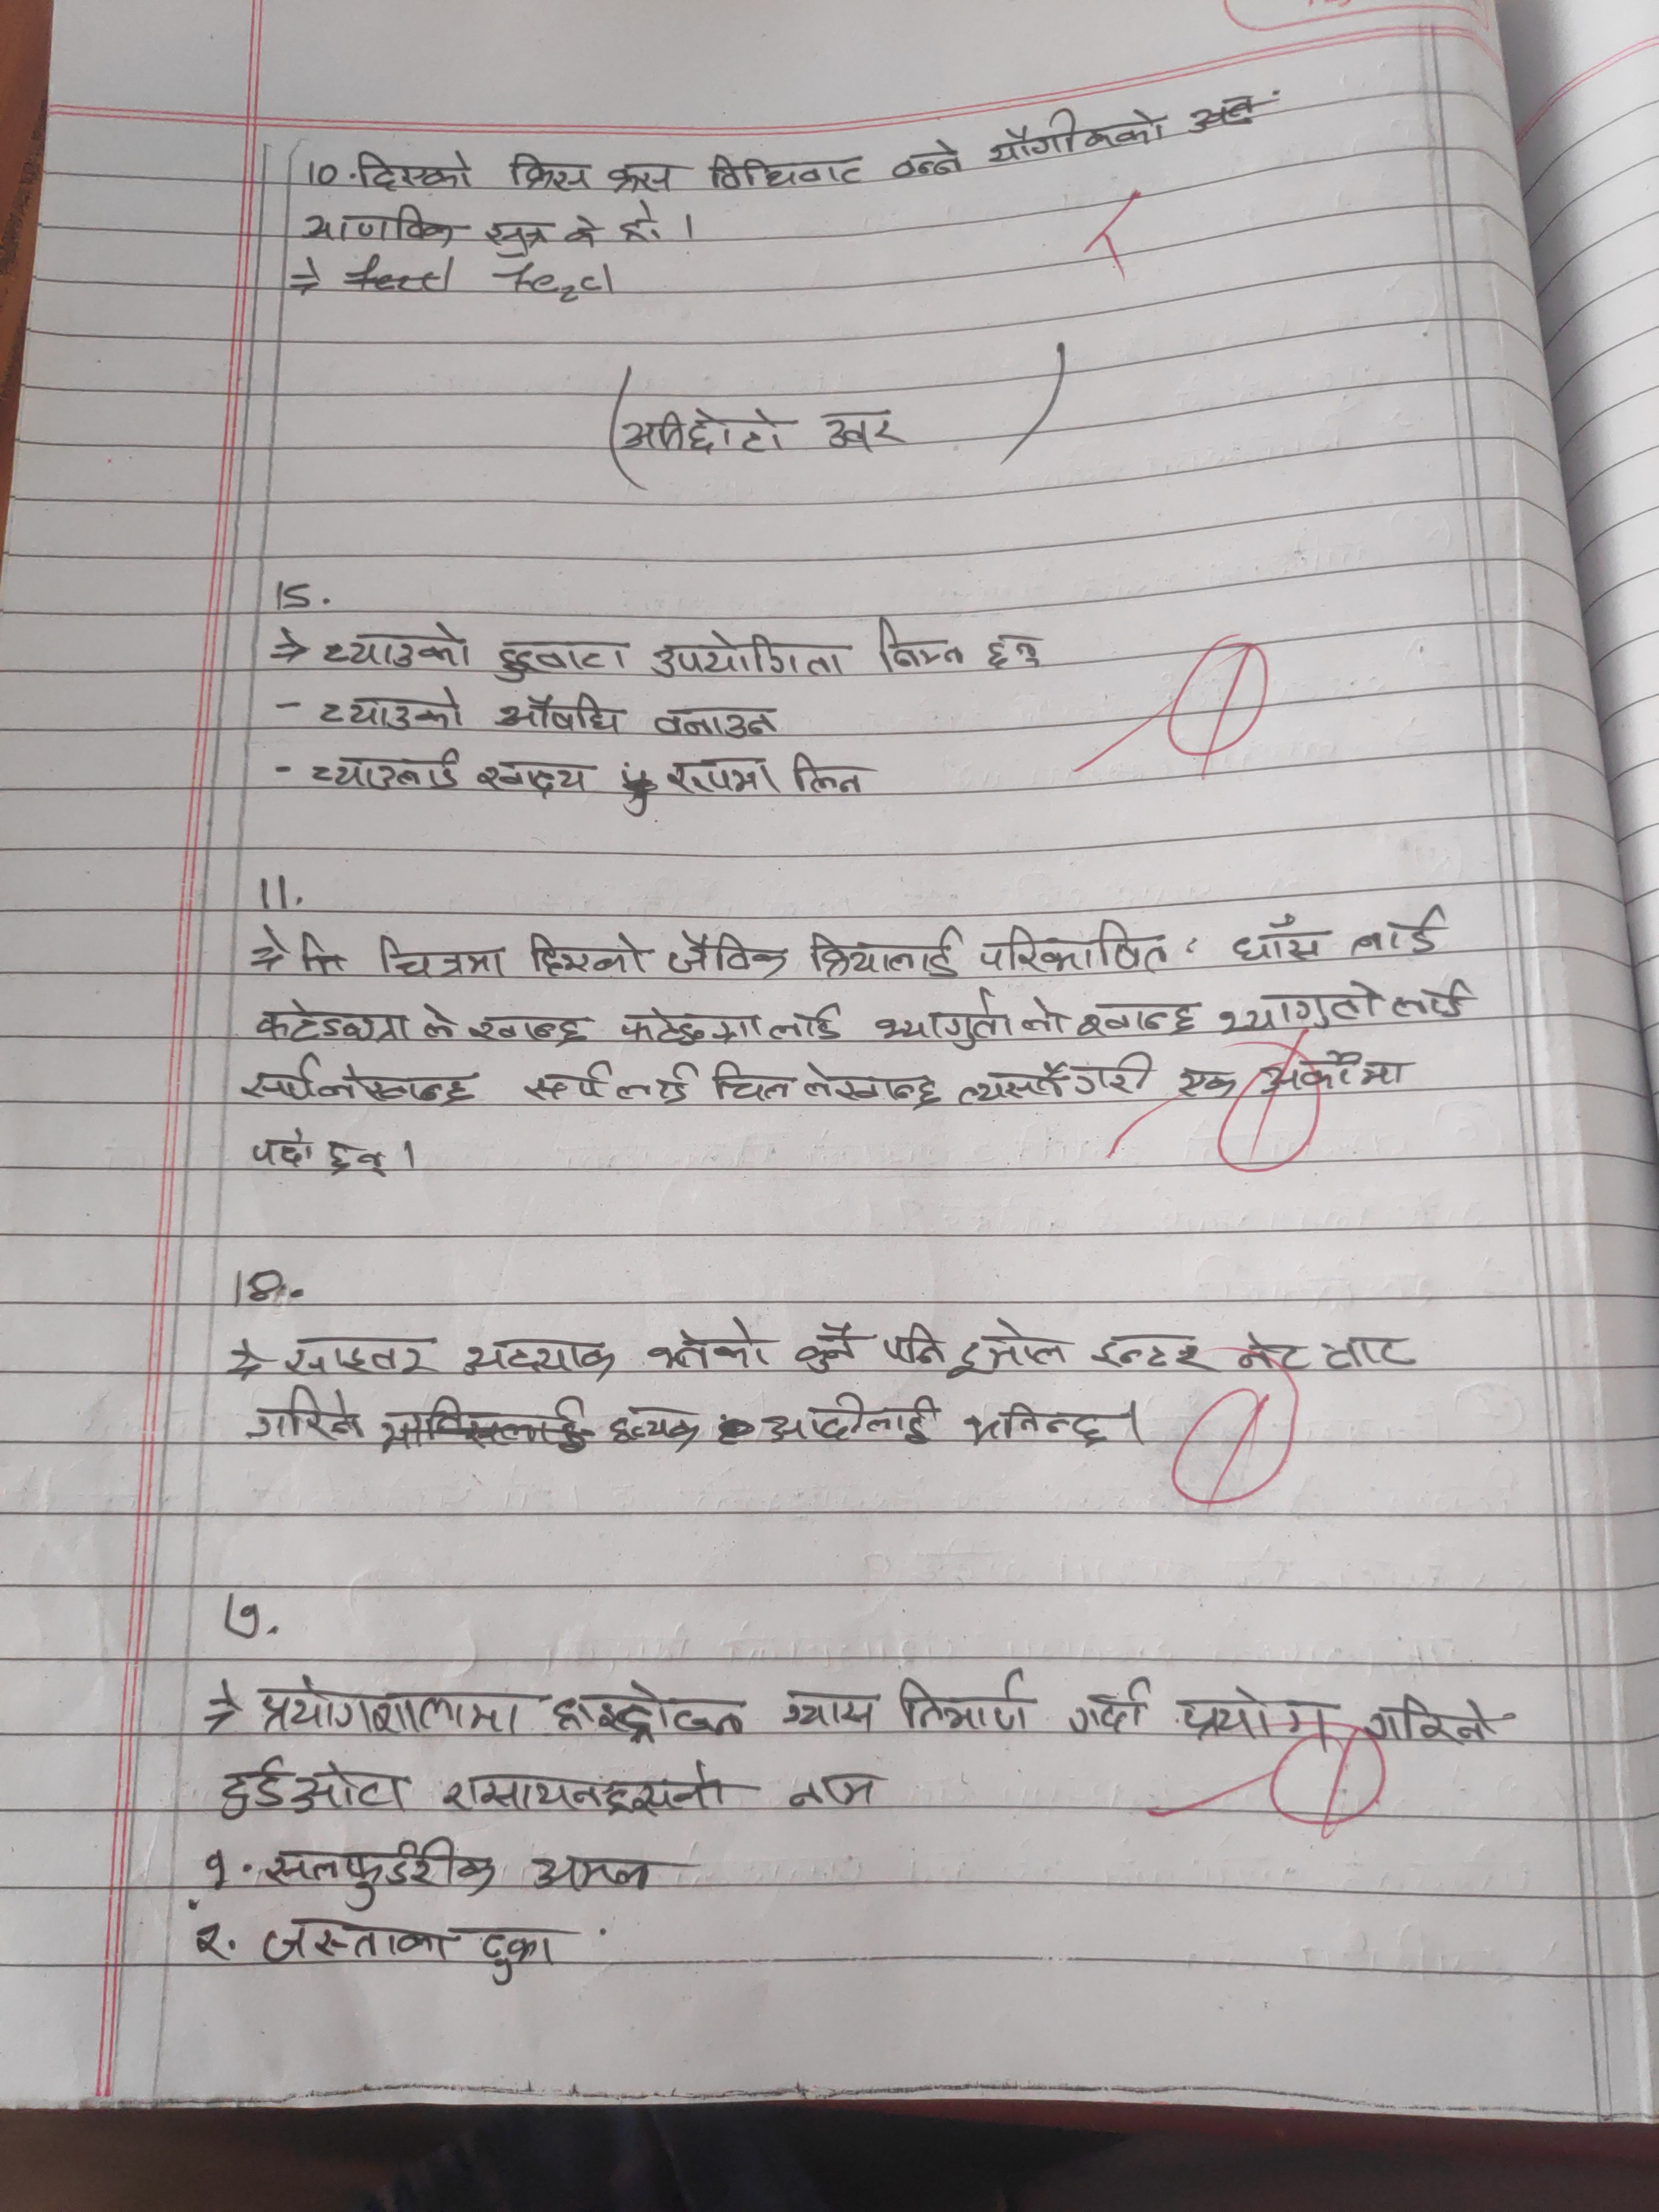text: (261, 1838, 504, 1914), (437, 1759, 735, 1815), (253, 1676, 525, 1737), (242, 1050, 495, 1108), (220, 1752, 413, 1818), (551, 1681, 751, 1742), (261, 1912, 455, 1972), (1175, 1686, 1344, 1752), (758, 1392, 939, 1453), (253, 995, 457, 1049), (617, 1003, 850, 1050), (979, 923, 1175, 979), (647, 631, 854, 681), (1215, 979, 1389, 1038), (985, 110, 1173, 164), (795, 916, 960, 977), (617, 401, 795, 456), (890, 1674, 1033, 1738), (871, 988, 1018, 1050), (518, 1059, 692, 1109), (802, 1055, 941, 1116), (296, 202, 464, 253), (282, 1331, 443, 1383), (321, 620, 481, 671), (957, 1313, 1077, 1379), (460, 1336, 620, 1383), (962, 1399, 1107, 1449), (319, 688, 472, 735), (312, 744, 465, 791), (471, 1921, 579, 1987), (240, 1388, 368, 1444), (519, 1843, 657, 1893), (1370, 1693, 1497, 1747), (491, 636, 636, 683), (369, 932, 509, 981), (647, 1318, 772, 1372), (1260, 1050, 1415, 1094), (706, 152, 871, 192), (523, 928, 647, 981), (350, 143, 476, 193), (664, 928, 788, 979), (866, 611, 965, 674), (1089, 1329, 1215, 1378), (495, 690, 627, 735), (1065, 1669, 1154, 1735), (660, 751, 775, 801), (647, 700, 784, 742), (957, 1059, 1066, 1111), (1227, 918, 1338, 967), (775, 1684, 878, 1735), (814, 404, 915, 455), (1351, 907, 1448, 960), (603, 1402, 706, 1451), (467, 1012, 598, 1050), (782, 1763, 878, 1815), (471, 759, 594, 799), (1077, 1001, 1204, 1040), (784, 751, 884, 798), (1070, 1049, 1159, 1099), (1323, 1327, 1419, 1371), (793, 1320, 866, 1376), (1232, 1329, 1312, 1379), (706, 1061, 795, 1106), (882, 1318, 955, 1372), (1391, 981, 1478, 1022), (507, 152, 598, 192), (890, 139, 969, 185), (319, 1136, 394, 1183), (610, 192, 669, 246), (481, 218, 551, 260), (1171, 1064, 1239, 1106), (605, 160, 690, 193), (251, 1129, 317, 1170), (1018, 993, 1075, 1040), (981, 631, 1046, 672), (565, 209, 610, 251)
